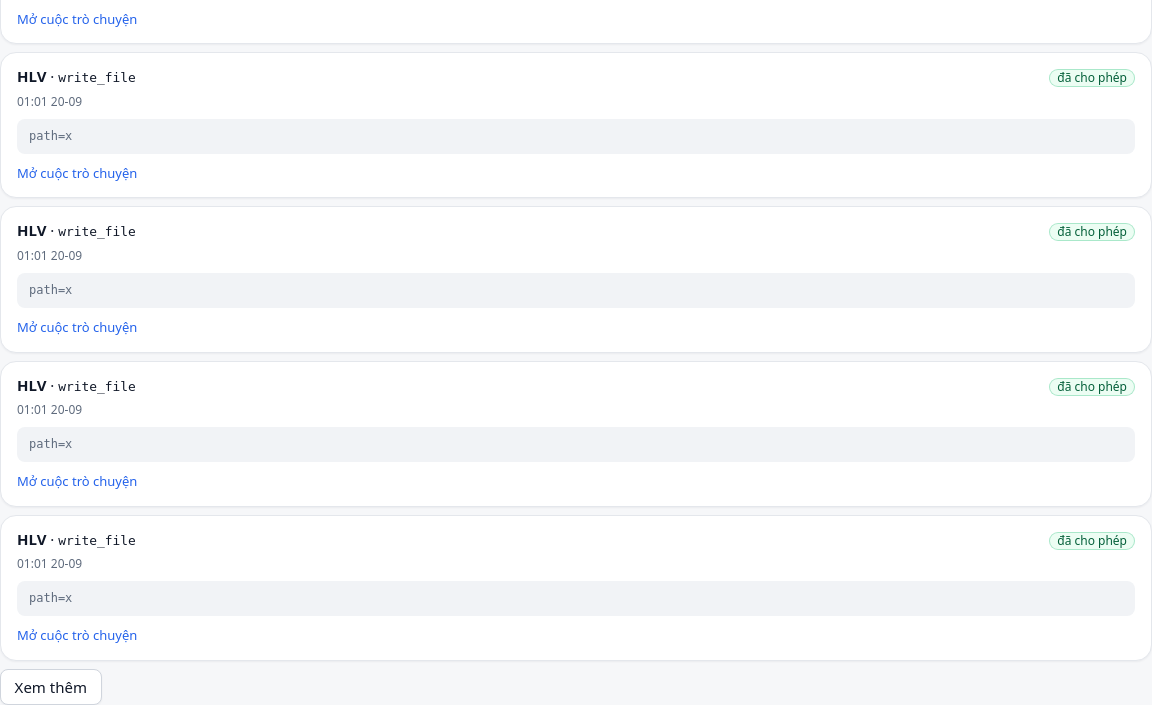
Test: ApprovalHistory › hands focus to the first new row when the last page takes the button away
The width and height of the screenshot is (1152, 705).
(page scrolled)
Click the button "Xem thêm".
click(51, 687)  # box [0, 669, 102, 704]
(page scrolled)
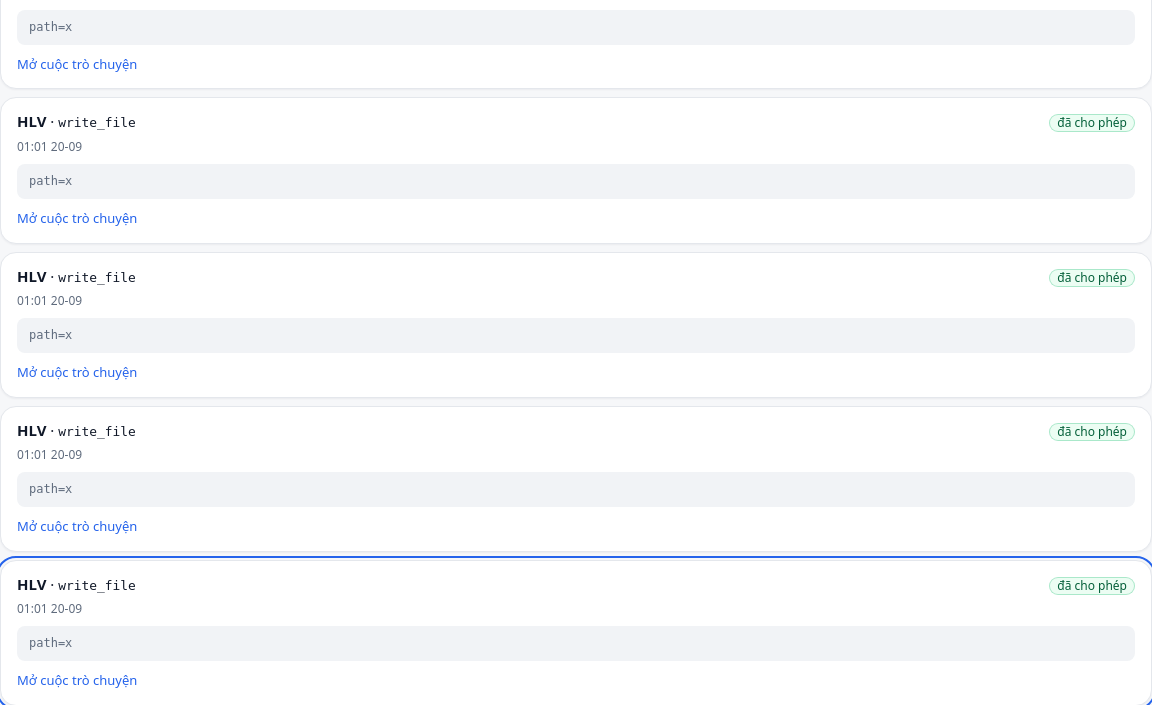
Now the button "Xem thêm" is gone
